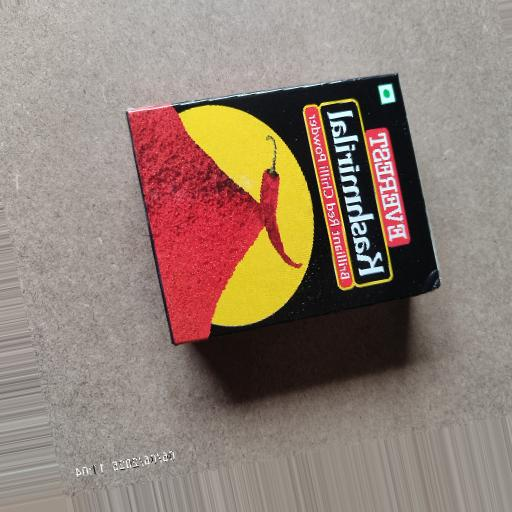Everest Kashmirilal: (96, 69, 469, 338)
